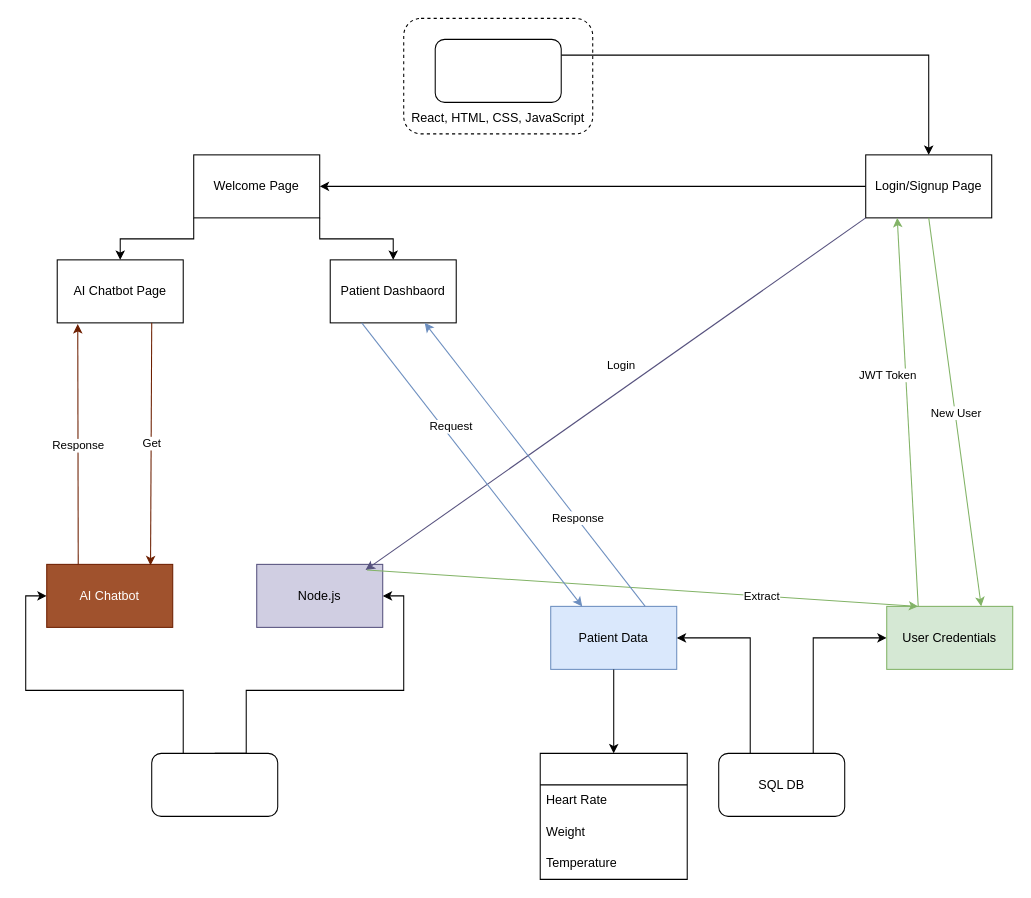
The diagram is 1031 pixels wide and 898 high, and some of its shapes have lost their labels. The box of each missing label's shape, as (x1, y1, x2, y2) in pixels:
Backend: (151, 752, 278, 816)
Frontend: (434, 38, 561, 102)
Hosted on Netlify: (403, 17, 593, 134)
Past Data: (539, 752, 687, 879)
